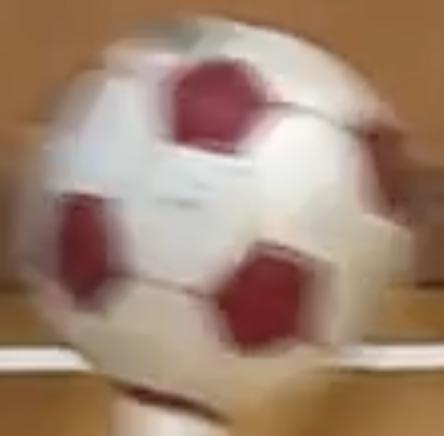Sports-Ball: (29, 28, 390, 381)
